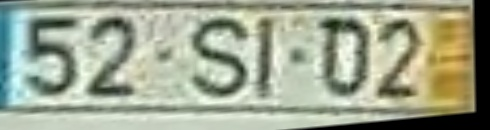0: (316, 16, 376, 100)
2: (85, 14, 142, 100), (374, 16, 422, 102)
5: (22, 14, 85, 101)
I: (252, 16, 279, 103)
S: (187, 14, 254, 105)
